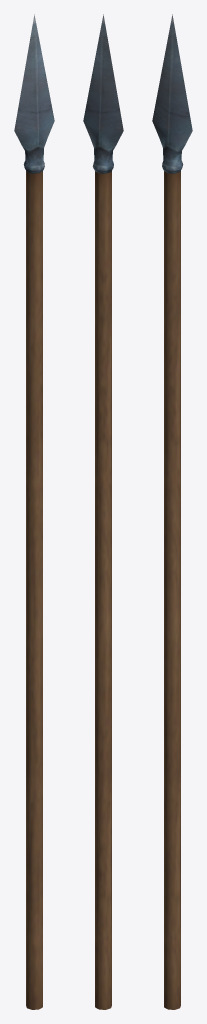
File: Spear01_Weapon_001.FBX
3 renders of one model, left to right at view 1: azimuth 30°, elevation 25°; view 2: azimuth 150°, elevation 25°; view 3: azimuth 330°, elevation 25°, orthographic.
Parts seen in each view (by area): view 1: Spear01_Weapon_001; view 2: Spear01_Weapon_001; view 3: Spear01_Weapon_001.
Boxes of the visible parts, x1,y1,x2,y2 form: Spear01_Weapon_001: (14, 14, 54, 1009); Spear01_Weapon_001: (83, 14, 123, 1009); Spear01_Weapon_001: (152, 14, 192, 1009).
Size of the model in its own units: 25.3 by 593 by 12.45.
1 material, 1 textured.
